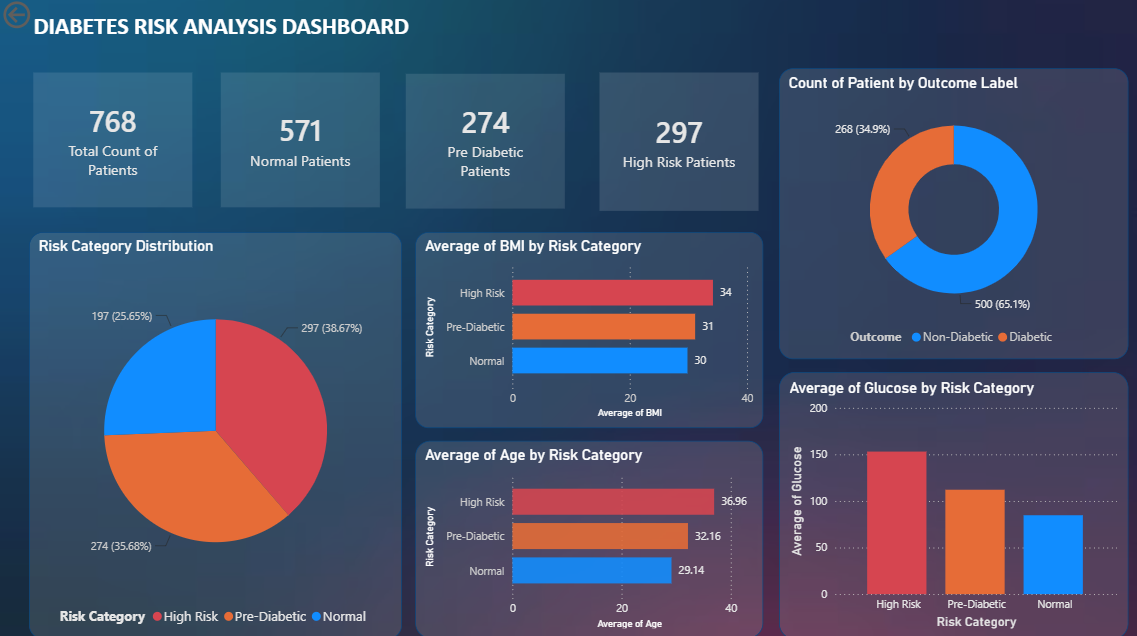

What the dashboard file says about the page in this screenshot:
{"tool":"powerbi","page":{"name":"Page 1","canvas":[1280,720],"ordinal":0},"visuals":[{"type":"pieChart","title":"Risk Category Distribution","fields":{"Y":["CountNonNull(cleaned_patient_data (1).PatientID)"],"Category":["cleaned_patient_data (1).Risk_Category"]},"box":[33.3,263.3,418.3,457],"z":0},{"type":"clusteredBarChart","title":"Average of BMI by Risk Category","fields":{"Category":["cleaned_patient_data (1).Risk_Category"],"Y":["Avg(cleaned_patient_data (1).BMI)"]},"box":[466.7,263.3,390,220],"z":1000},{"type":"barChart","title":"Average of Age by Risk Category","fields":{"Category":["cleaned_patient_data (1).Risk_Category"],"Y":["Avg(cleaned_patient_data (1).Age)"]},"box":[466.7,498.3,390,221.7],"z":2000},{"type":"actionButton","box":[0,0,100,40],"z":3000},{"type":"donutChart","title":"Count of Patient by Outcome Label","fields":{"Y":["CountNonNull(cleaned_patient_data (1).PatientID)"],"Category":["cleaned_patient_data (1).Outcome_Label"]},"box":[875,80,391.7,326.7],"z":4000},{"type":"cardVisual","fields":{"Data":["cleaned_patient_data (1).HighRiskPatients"]},"box":[668.3,80,188.3,165],"z":5000},{"type":"cardVisual","fields":{"Data":["CountNonNull(cleaned_patient_data (1).PatientID)"]},"box":[33.3,80,188.3,161.7],"z":6000},{"type":"cardVisual","fields":{"Data":["CountNonNull(cleaned_patient_data (1).PatientID)"]},"box":[451.7,81.7,188.3,161.7],"z":7000},{"type":"cardVisual","fields":{"Data":["CountNonNull(cleaned_patient_data (1).PatientID)"]},"box":[243.3,80,188.3,161.7],"z":8000},{"type":"textbox","box":[33.3,11.7,466.7,56.7],"z":9000},{"type":"clusteredColumnChart","title":"Average of Glucose by Risk Category","fields":{"Category":["cleaned_patient_data (1).Risk_Category"],"Y":["Avg(cleaned_patient_data (1).Glucose)"]},"box":[875,420,391.7,300],"z":10000}]}

Visuals, with their boxes in screenshot pixels (x1, y1, x2, y2), scaled from the page's 1280x720 canvas onto the 1137x636 screenshot:
"Risk Category Distribution" pieChart: <bbox>30, 233, 401, 635</bbox>
"Average of BMI by Risk Category" clusteredBarChart: <bbox>415, 233, 761, 427</bbox>
"Average of Age by Risk Category" barChart: <bbox>415, 440, 761, 635</bbox>
actionButton: <bbox>0, 0, 89, 35</bbox>
"Count of Patient by Outcome Label" donutChart: <bbox>777, 71, 1125, 359</bbox>
cardVisual - cleaned_patient_data (1).HighRiskPatients: <bbox>594, 71, 761, 216</bbox>
cardVisual - CountNonNull(cleaned_patient_data (1).PatientID): <bbox>30, 71, 197, 214</bbox>
cardVisual - CountNonNull(cleaned_patient_data (1).PatientID): <bbox>401, 72, 568, 215</bbox>
cardVisual - CountNonNull(cleaned_patient_data (1).PatientID): <bbox>216, 71, 383, 214</bbox>
textbox: <bbox>30, 10, 444, 60</bbox>
"Average of Glucose by Risk Category" clusteredColumnChart: <bbox>777, 371, 1125, 635</bbox>
